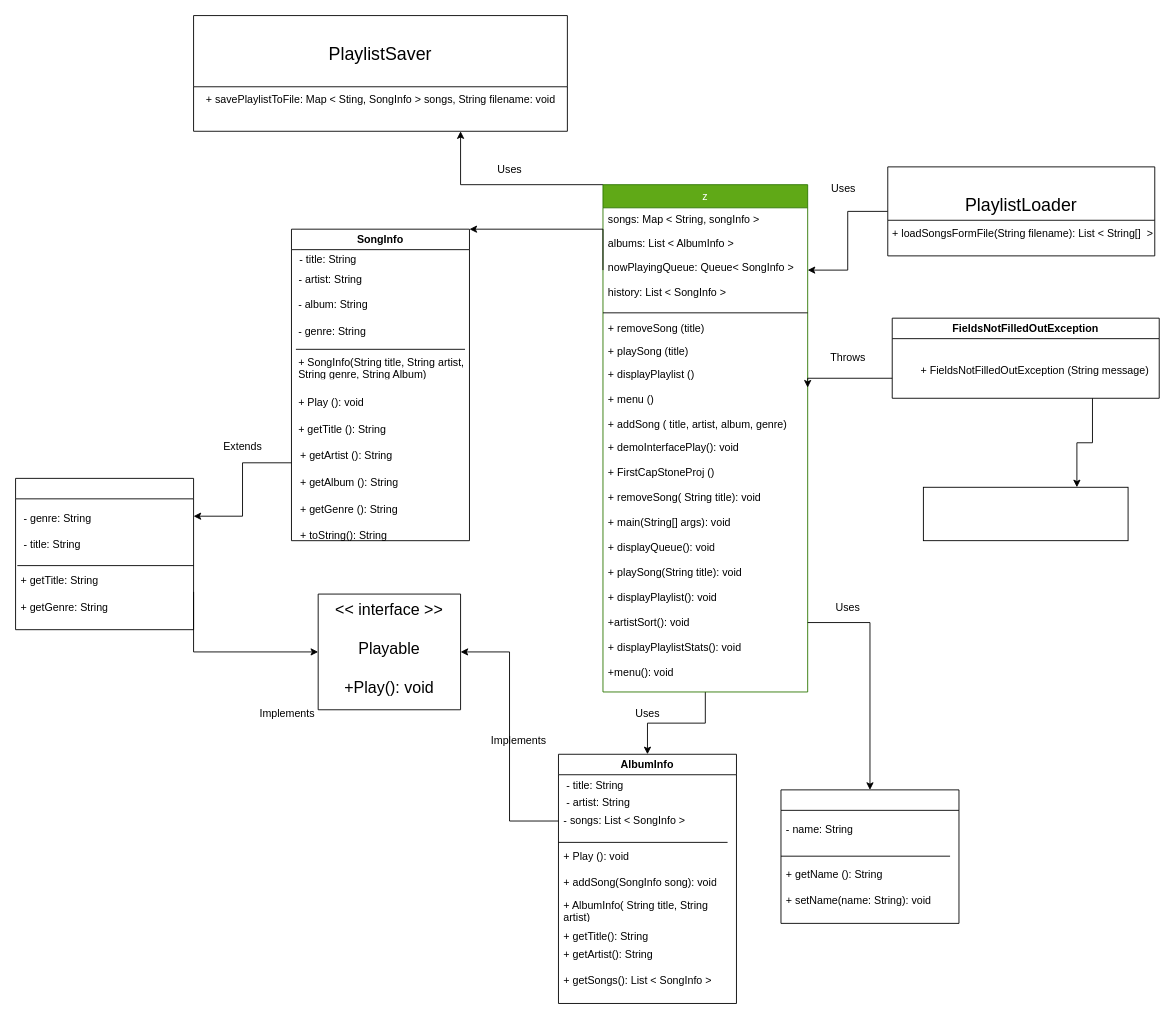
Some shapes in this 1175 by 1019 pixel diagram are drawn without their labels. Here are the shapes that lost their labels. From the top down, the box of each, then its label:
(922, 486, 1128, 541): Exception
(15, 477, 194, 630): MediaInfo (abstract)
(780, 789, 959, 923): GenreInfo
